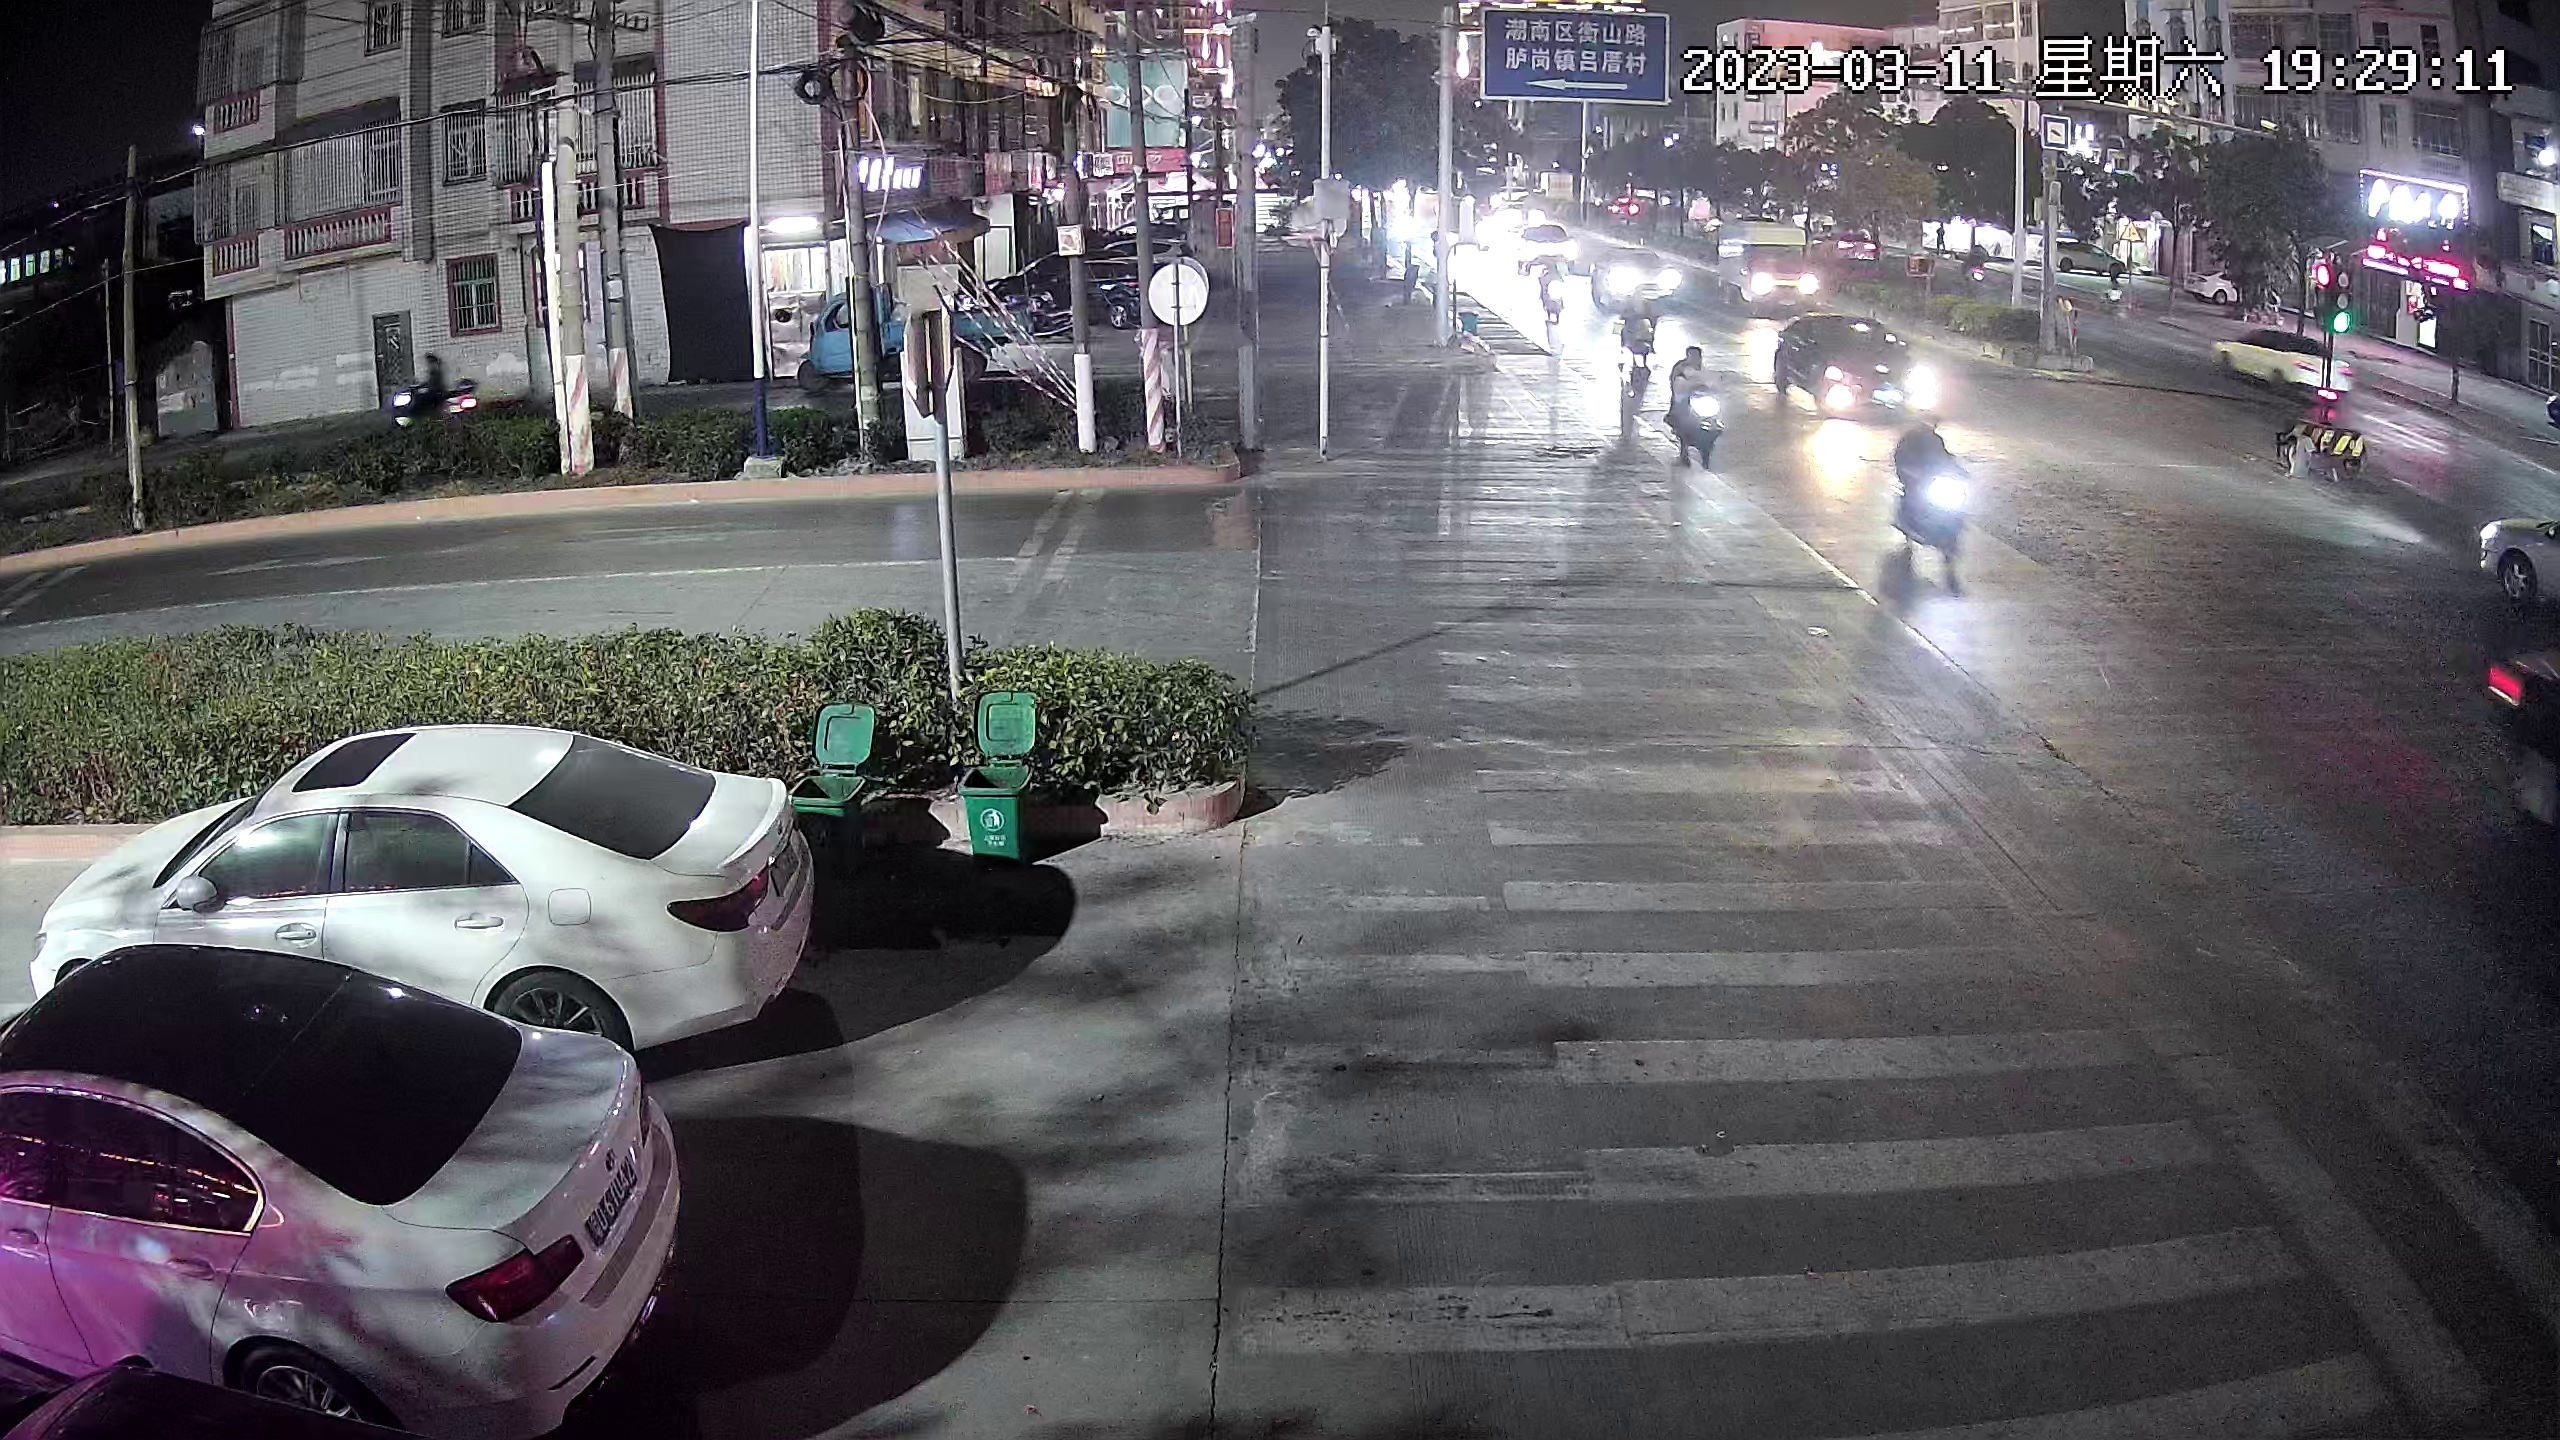motorcycle: (1885, 408, 1980, 598), (383, 339, 482, 438), (1665, 339, 1732, 475), (1614, 283, 1660, 367), (1530, 258, 1568, 325)
sedan: (2, 948, 673, 1415), (37, 726, 818, 1044), (1776, 308, 1938, 433), (2208, 324, 2358, 408), (2479, 510, 2560, 612), (1048, 253, 1148, 318), (2040, 236, 2135, 288), (1604, 246, 1674, 309), (1523, 220, 1577, 269)
tricycle: (798, 283, 1023, 390)
truck: (1720, 215, 1815, 315)
